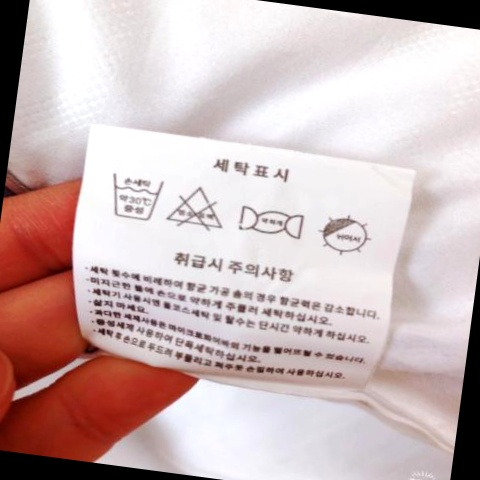dry_flat_in_shade: (316, 210, 375, 259)
hand_wash: (106, 170, 170, 226)
non_chlorine_bleach: (164, 177, 231, 235)
wring: (236, 204, 307, 241)
